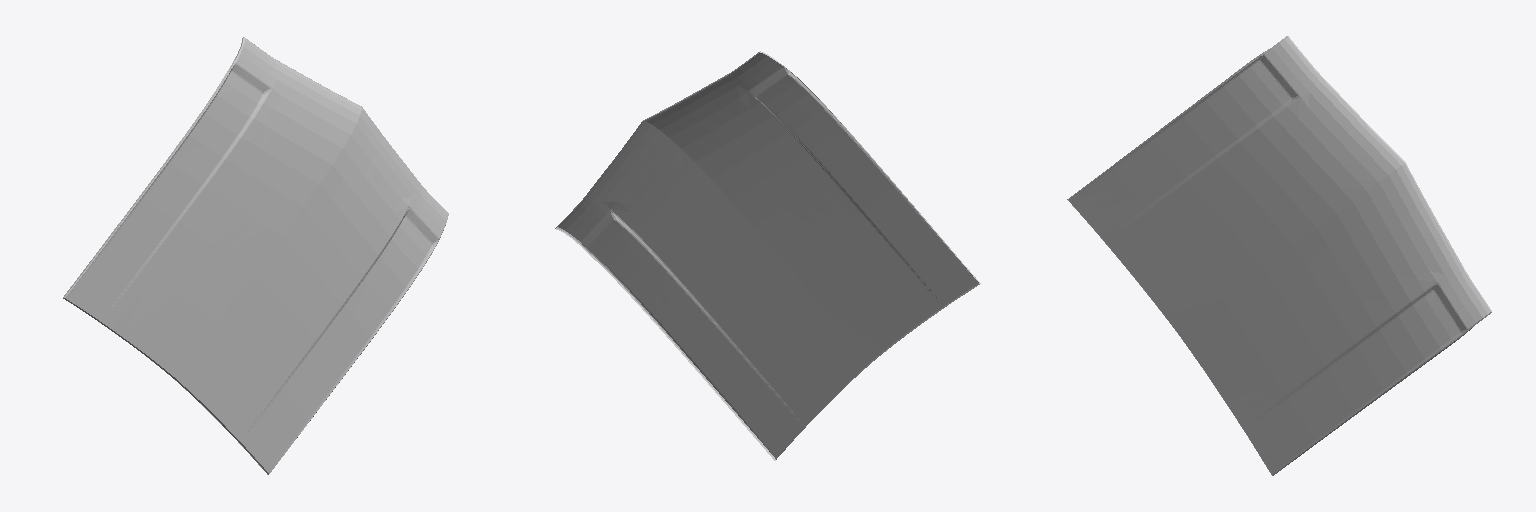
Rendered from Hood.obj.
The picture shows the model from 3 angles: view 1: azimuth 30°, elevation 25°; view 2: azimuth 150°, elevation 25°; view 3: azimuth 330°, elevation 25°; orthographic projection.
Visible parts, largest first — view 1: Hood; view 2: Hood; view 3: Hood.
Boxes of the visible parts, x1,y1,x2,y2 form: Hood: [63, 37, 448, 474]; Hood: [555, 51, 980, 460]; Hood: [1067, 36, 1491, 475].
Size of the model in its own units: 1.79 by 1.79 by 0.1618.